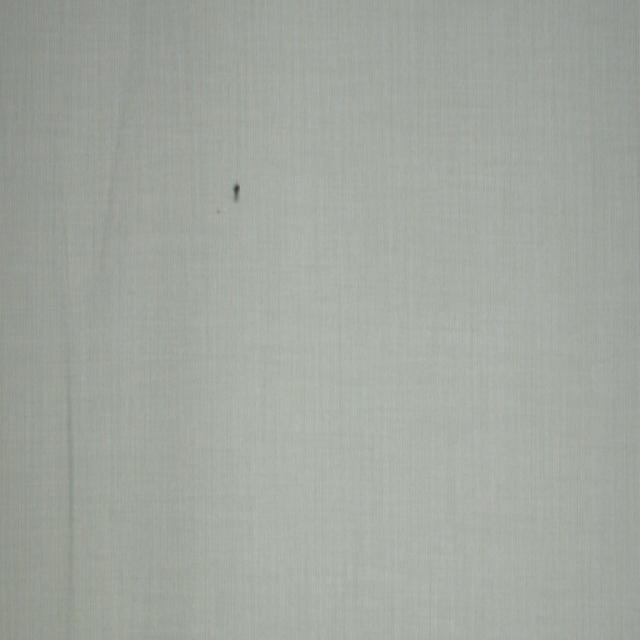dirty: (232, 183, 240, 200)
